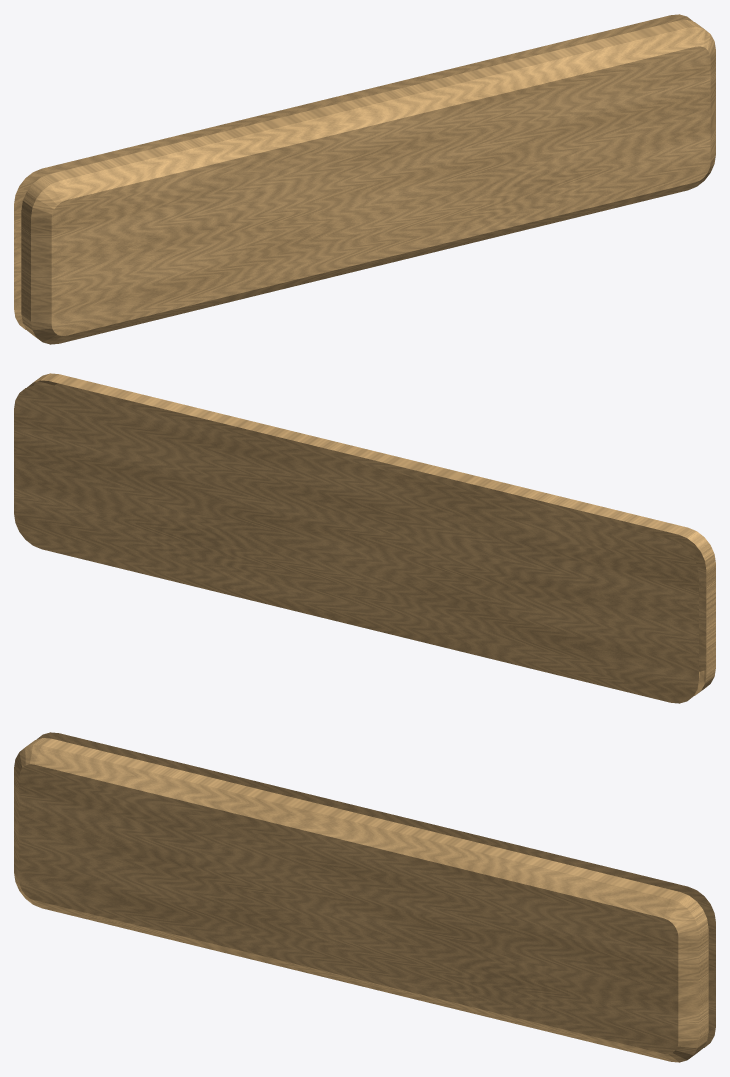
File: Plank_Wide_Birch.obj
3 views of the same model, one above another, from view 1: azimuth 30°, elevation 25°; view 2: azimuth 150°, elevation 25°; view 3: azimuth 330°, elevation 25° (orthographic).
Parts seen in each view (by area): view 1: Plank_Wide_Birch; view 2: Plank_Wide_Birch; view 3: Plank_Wide_Birch.
Part boxes in pixels (x1,y1,x2,y2): Plank_Wide_Birch: (14, 14, 715, 344); Plank_Wide_Birch: (14, 373, 715, 703); Plank_Wide_Birch: (14, 732, 715, 1062).
Size of the model in its own units: 3.7 by 0.84 by 0.23.
1 material, 1 textured.
